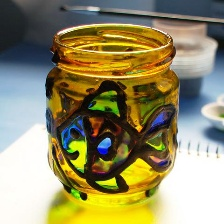bottle: (40, 17, 182, 205)
